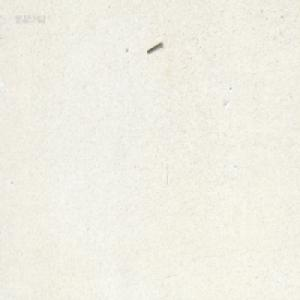Bolt: (146, 40, 162, 53)
